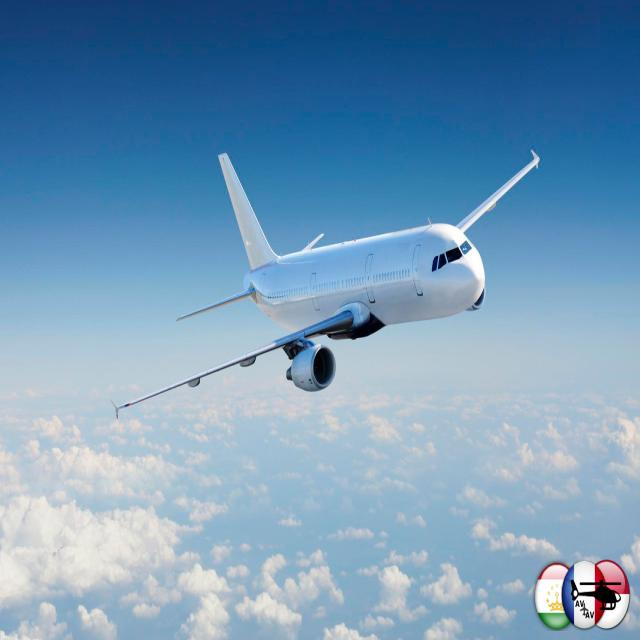plain: (116, 144, 547, 428)
